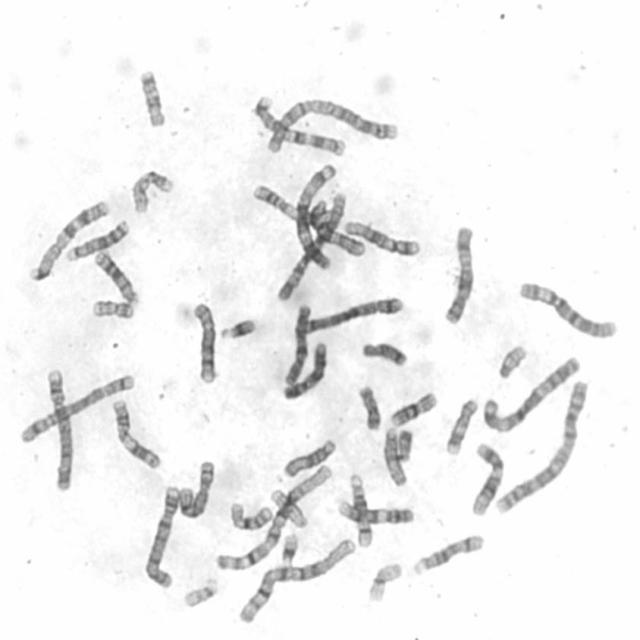A1: (211, 457, 335, 574), (233, 532, 356, 626)
A2: (491, 374, 592, 516), (255, 92, 400, 154)
A3: (478, 351, 582, 434), (290, 160, 367, 258)
B4: (139, 480, 182, 590), (42, 362, 76, 493)
B5: (14, 368, 138, 445), (296, 292, 406, 336)
C10: (305, 199, 365, 260), (279, 298, 313, 388)
C11: (106, 393, 163, 471), (249, 179, 338, 225)
C12: (339, 215, 423, 258), (466, 438, 506, 517)
C6: (272, 188, 349, 302), (514, 276, 620, 340)
C7: (24, 193, 112, 283), (249, 90, 349, 158)
C8: (187, 296, 219, 385), (173, 455, 216, 520)
C9: (280, 340, 331, 402), (332, 495, 416, 526)
D13: (59, 213, 131, 264), (90, 244, 140, 306)
D14: (407, 529, 486, 577), (344, 469, 375, 549)
D15: (278, 433, 338, 479), (378, 422, 409, 488)
E16: (385, 386, 439, 428), (224, 496, 276, 532)
E17: (127, 165, 176, 215), (441, 393, 479, 457)
E18: (134, 64, 168, 128), (356, 336, 409, 368)
F19: (265, 483, 309, 530), (363, 558, 404, 604)
F20: (353, 380, 383, 432), (87, 294, 137, 321)
G21: (215, 313, 258, 342), (276, 527, 300, 566)
G22: (178, 572, 220, 610), (494, 340, 528, 380)
X: (438, 219, 477, 326)
Y: (394, 423, 414, 463)
